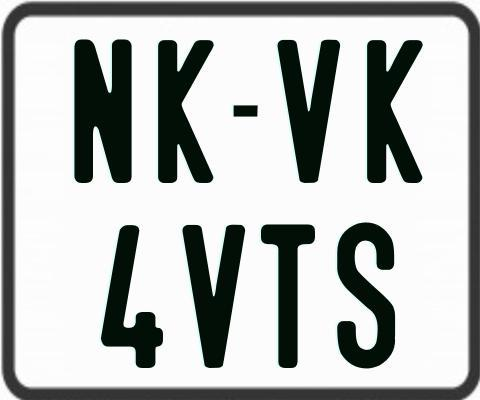4: (98, 222, 163, 365)
K: (364, 39, 426, 185), (155, 40, 213, 186)
N: (73, 37, 133, 182)
S: (337, 222, 397, 369)
T: (259, 224, 313, 374)
V: (183, 225, 251, 368), (275, 39, 338, 182)
